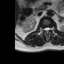CCS_normal: (46, 25, 48, 35)
LFS_normal: (50, 26, 52, 31)
LLS_normal: (48, 26, 50, 31)
RFS_normal: (42, 26, 44, 31)
RLS_normal: (44, 26, 46, 32)
